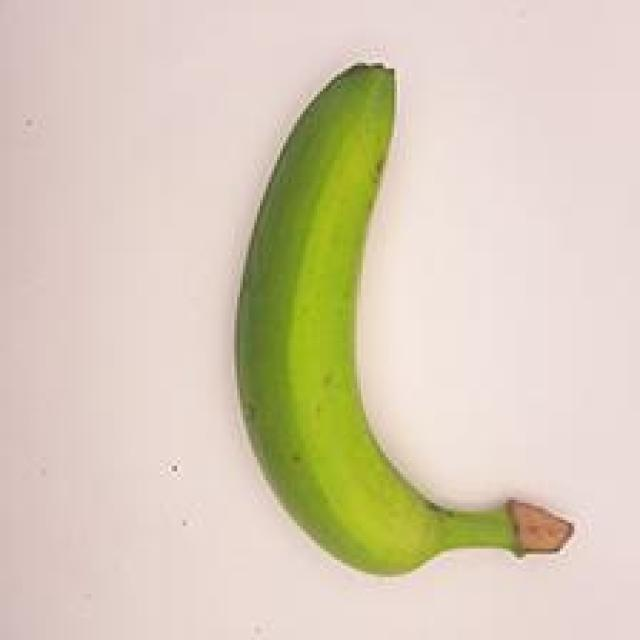unripe: (190, 55, 601, 593)
